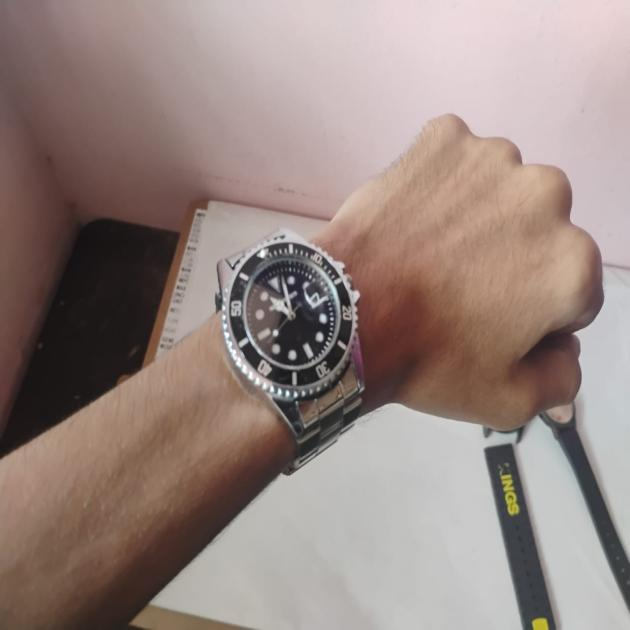wristwatch: (214, 234, 376, 465)
